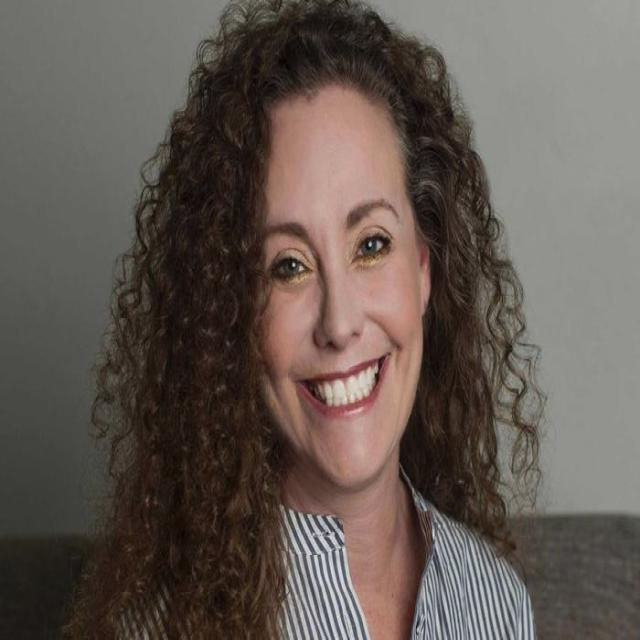human: (87, 12, 548, 640)
